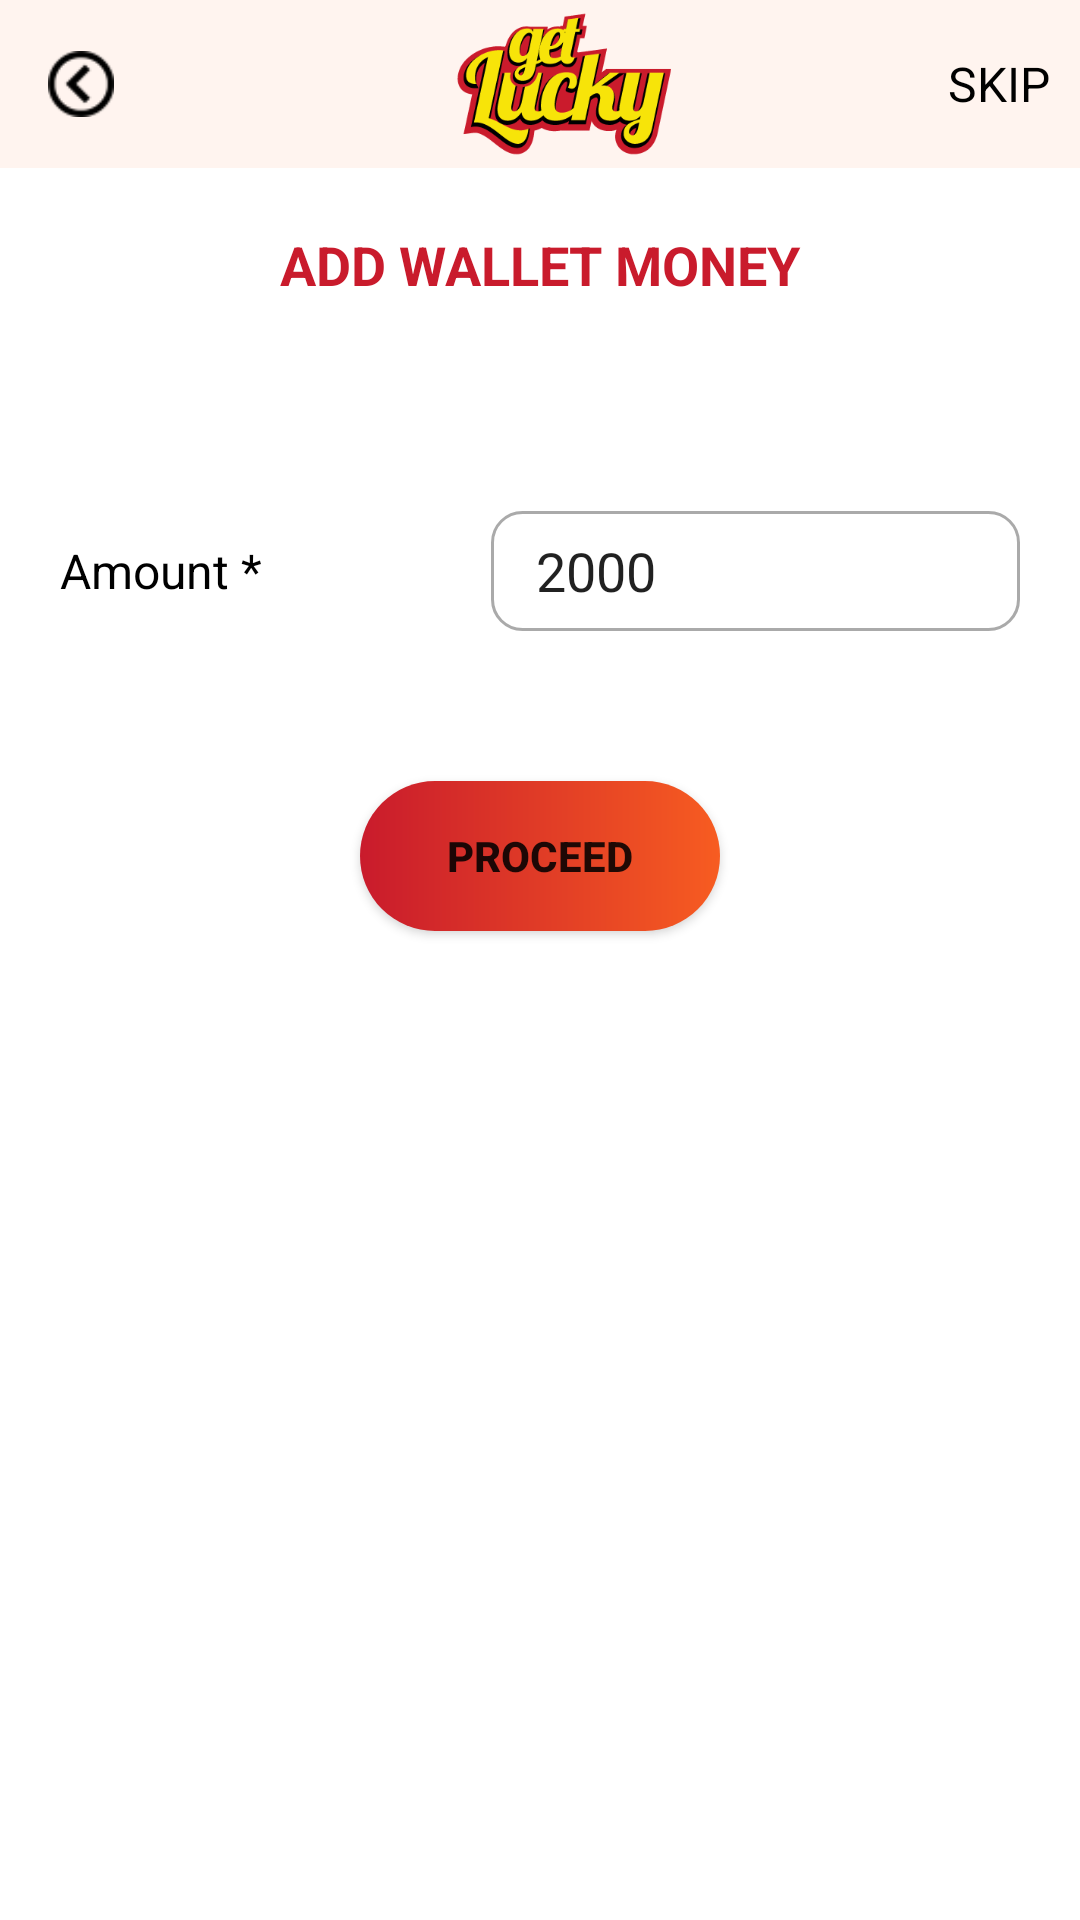

Named icons in this screenshot (1080w x 1920h) and their centers, [x,y]:
back: [81,84]
